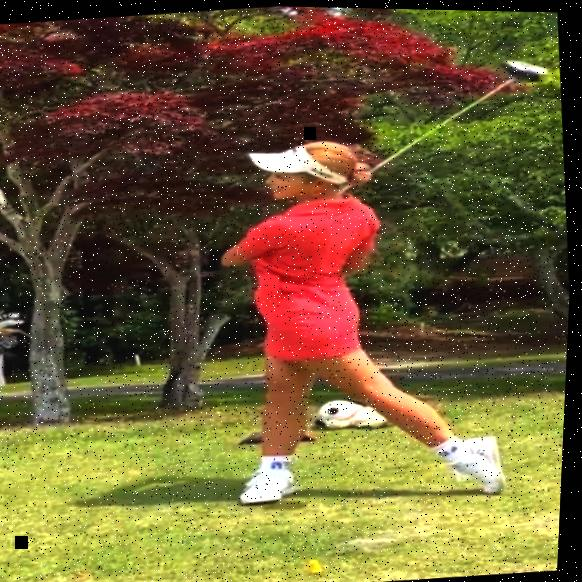ClubHead: (498, 53, 545, 89)
